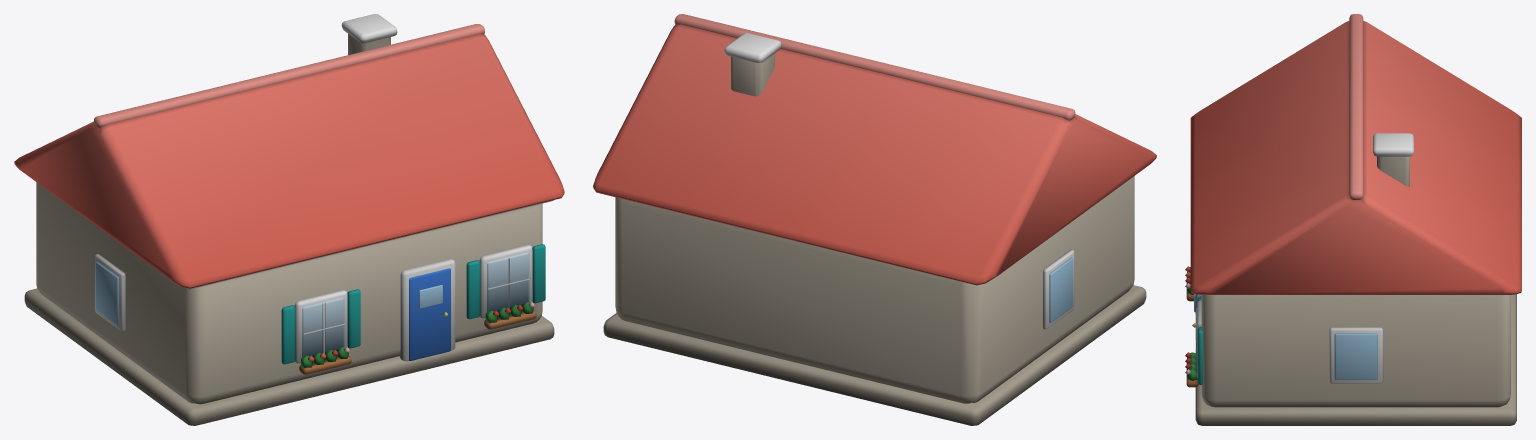
File: prop-house-a.glb
3 renders of one model, left to right at view 1: azimuth 30°, elevation 25°; view 2: azimuth 150°, elevation 25°; view 3: azimuth 270°, elevation 25°, orthographic. The views are drawn at different scales.
Parts seen in each view (by area): view 1: house_a; view 2: house_a; view 3: house_a.
Boxes of the visible parts, left/top/right/bottom form: house_a: left=14, top=14, right=564, bottom=425; house_a: left=593, top=14, right=1156, bottom=425; house_a: left=1185, top=14, right=1521, bottom=425.
Size of the model in its own units: 10.4 by 6.62 by 8.17.
